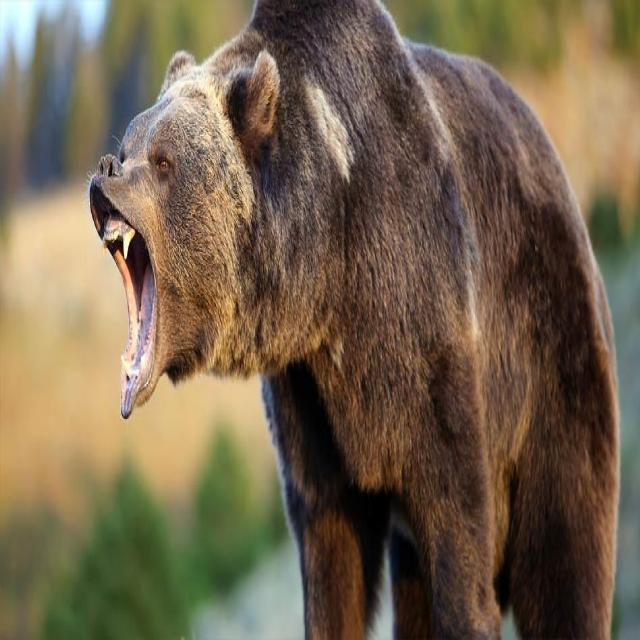Bear: (86, 0, 622, 640)
